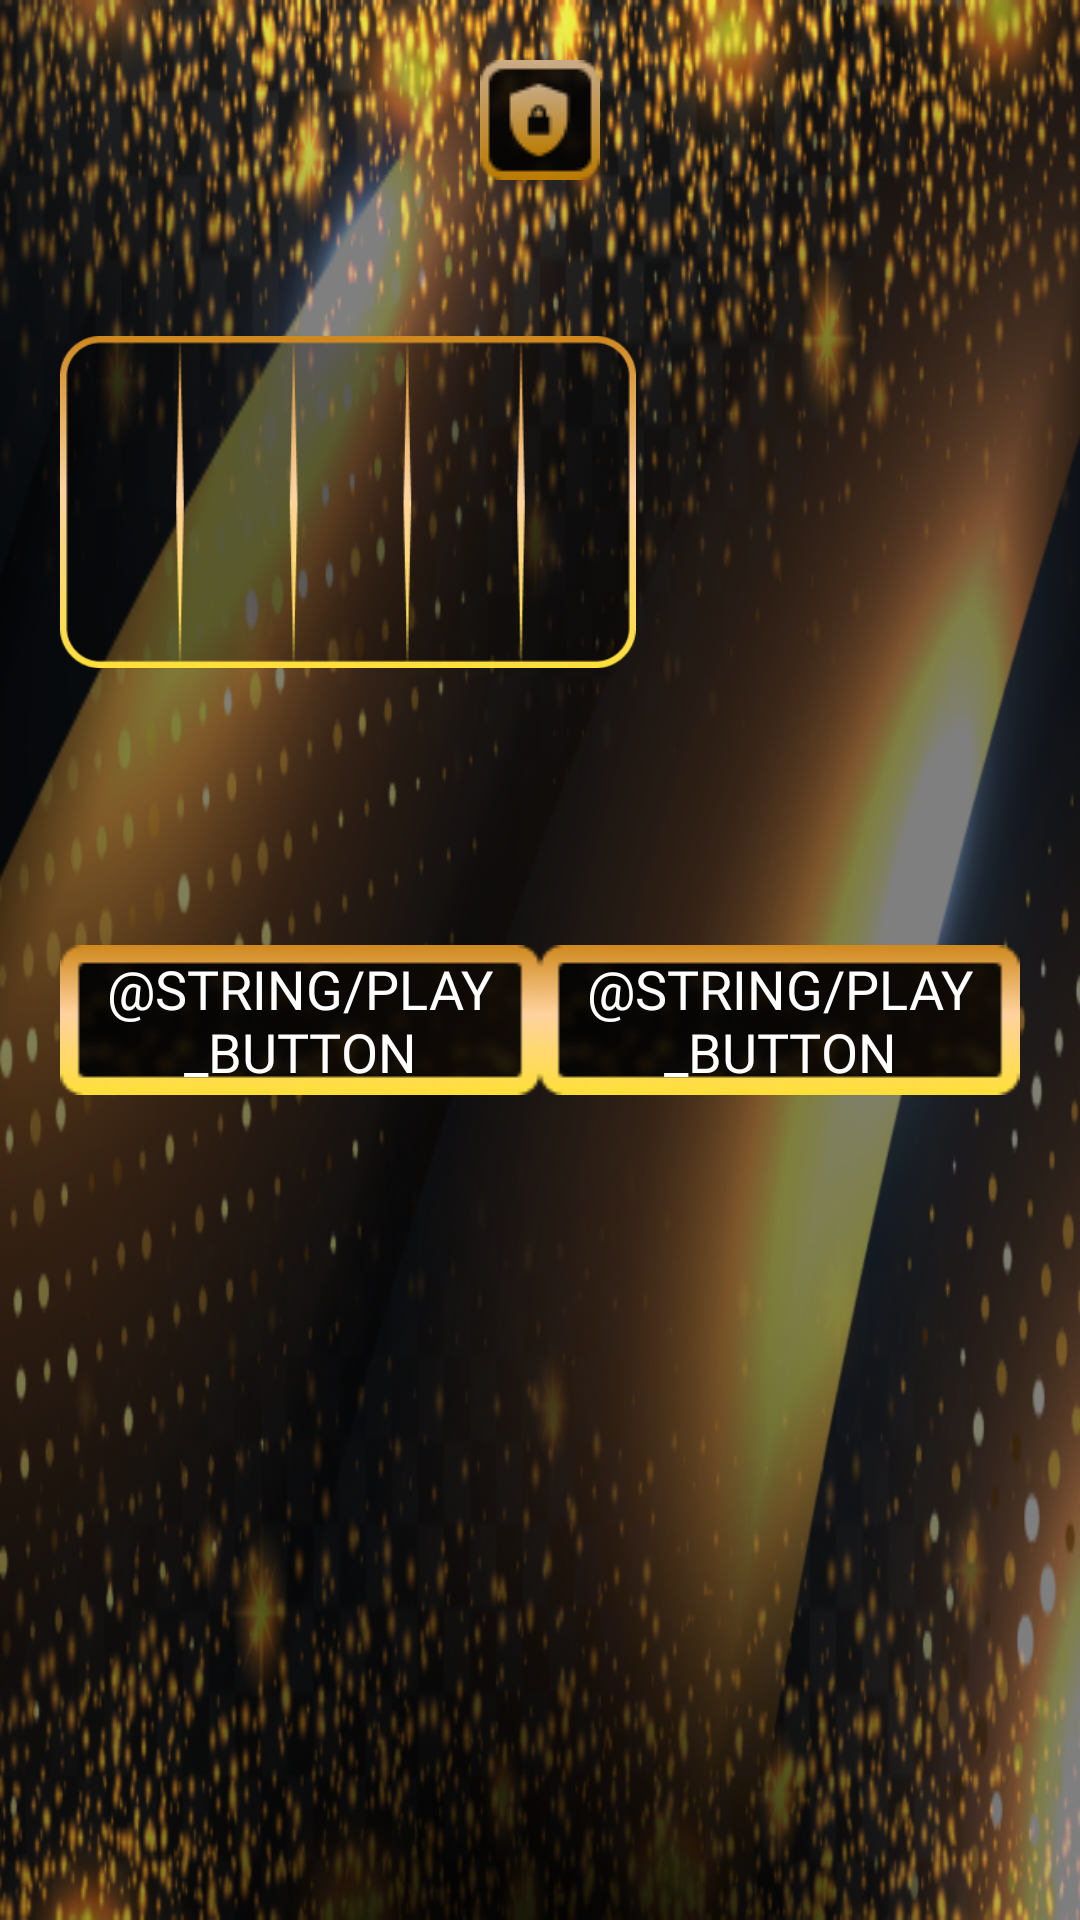

Where to tap for icons on this 1080 × 1920 app screen, as [x,y]:
privacy: [540,120]
